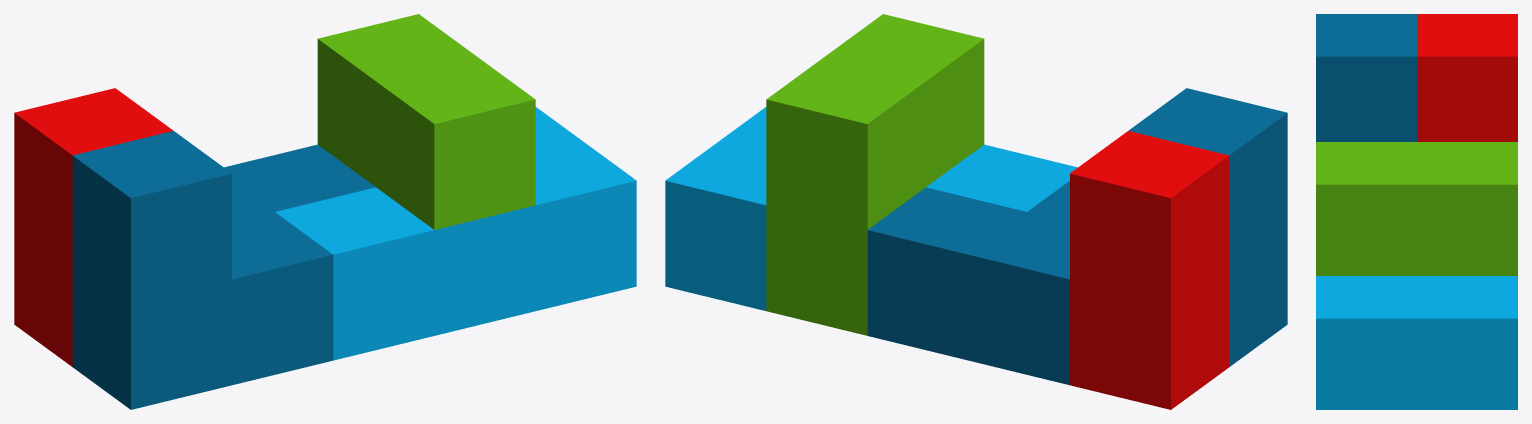
3 renders of one model, left to right at view 1: azimuth 30°, elevation 25°; view 2: azimuth 150°, elevation 25°; view 3: azimuth 270°, elevation 25°, orthographic. The views are drawn at different scales.
Parts seen in each view (by area): view 1: mergedBlocks(Clone); view 2: mergedBlocks(Clone); view 3: mergedBlocks(Clone).
Part boxes in pixels (x1,y1,x2,y2): mergedBlocks(Clone): (14,14,636,409); mergedBlocks(Clone): (665,14,1287,409); mergedBlocks(Clone): (1316,14,1517,409).
Bounding box in the file's own units: 5 × 2 × 2.
Materials: 4 (4 with a texture image).
